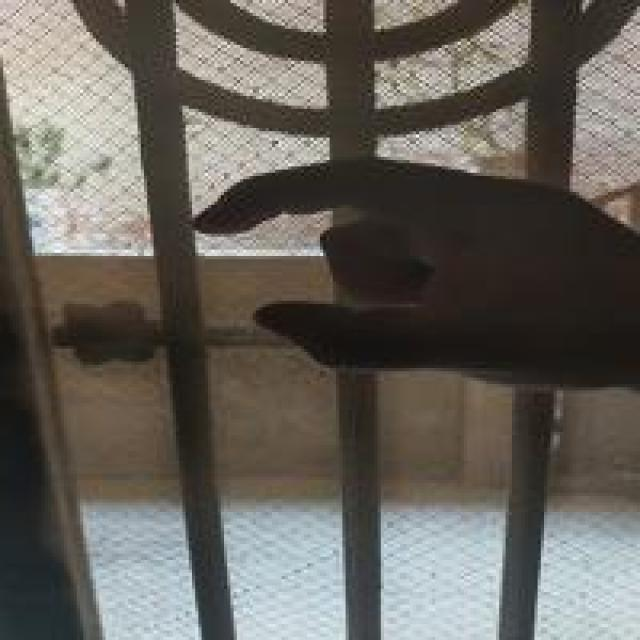Q: (182, 142, 628, 392)
